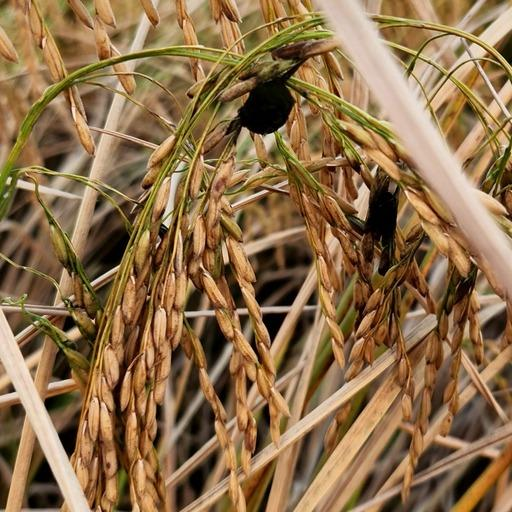Leaf_Scald: (232, 57, 307, 139), (350, 162, 407, 252)
